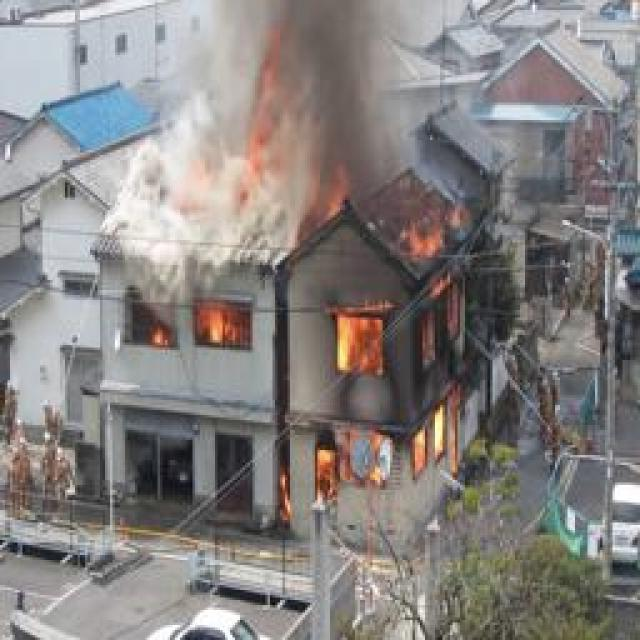Fire: (305, 191, 477, 502), (140, 305, 249, 353), (240, 88, 275, 189)
